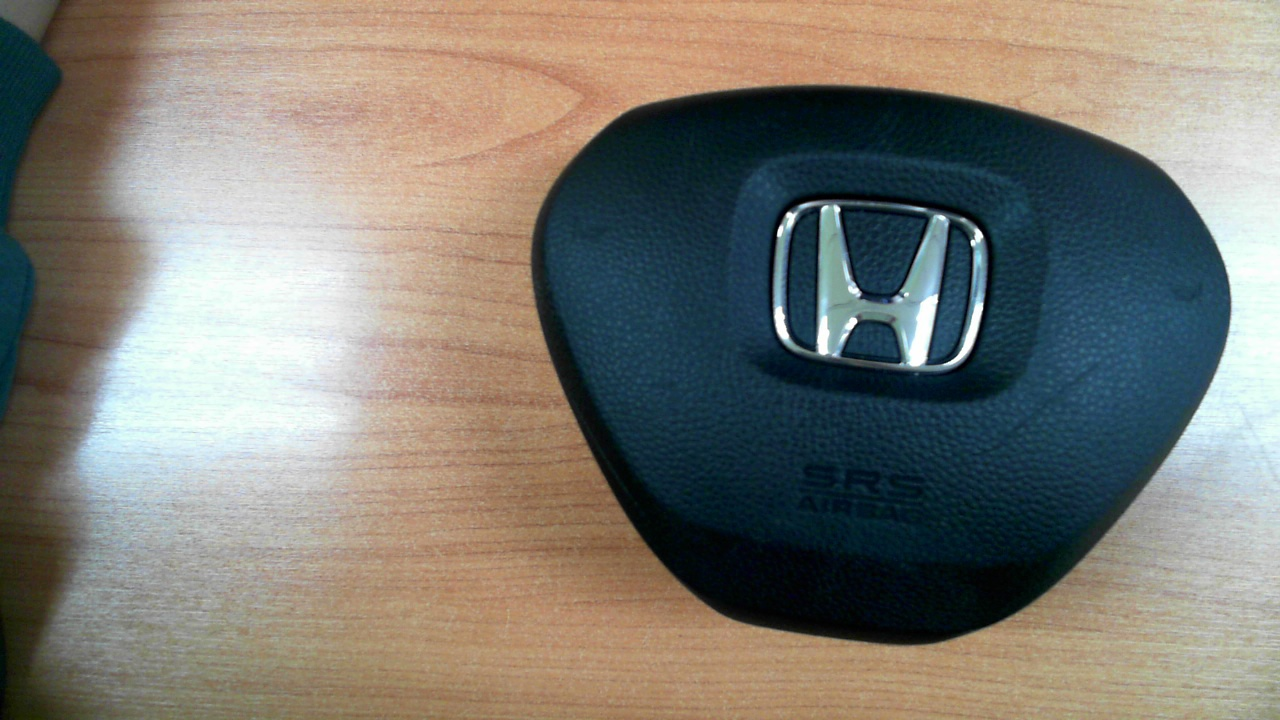Airbag: (529, 85, 1232, 647)
Honda: (773, 199, 987, 372)
